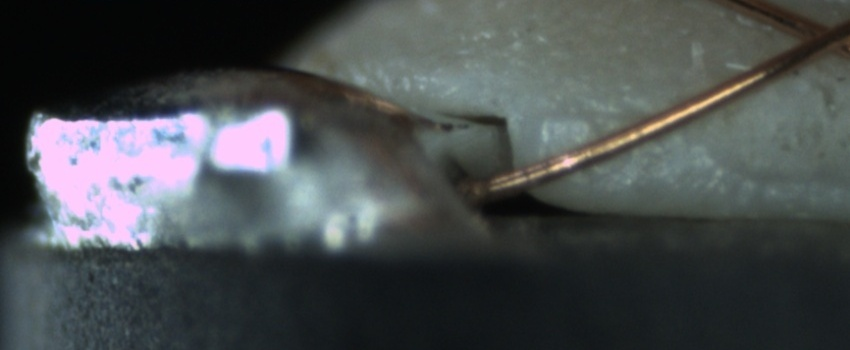CL: (774, 5, 849, 65)
DL: (534, 86, 668, 146)
